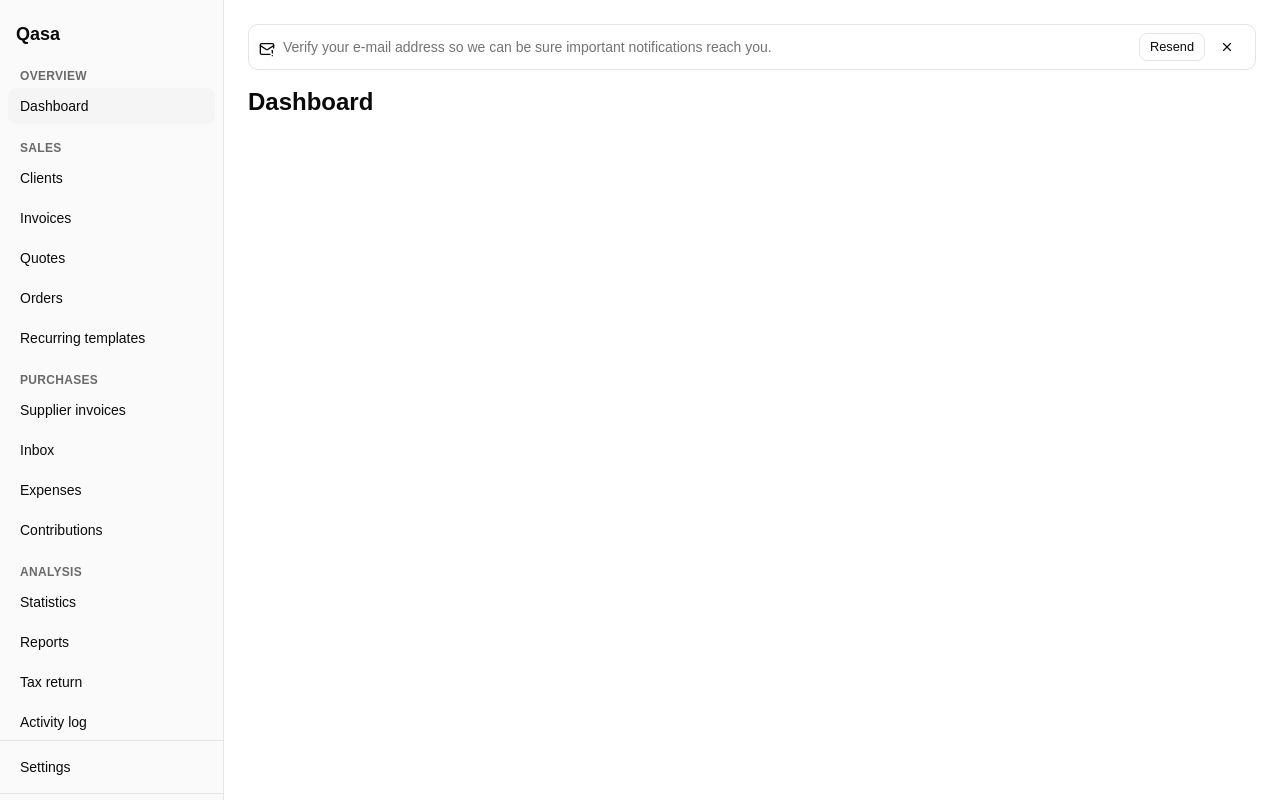
Test: email verification banner › resends the verification e-mail and disables the button while cooling down
Click the button "Resend": {"x": 1172, "y": 47} [1139,33,1205,61]
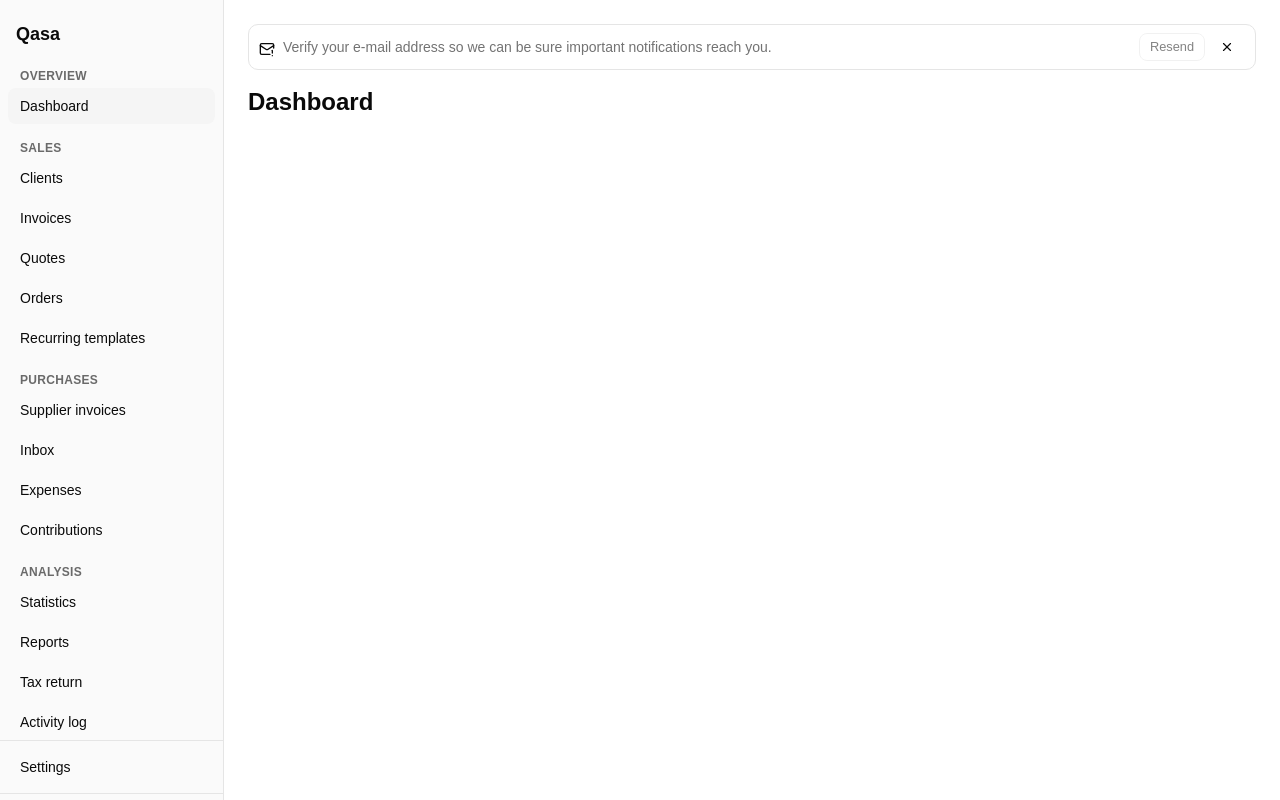
Check: the button "Resend" is disabled, box [1139,33,1205,61]
